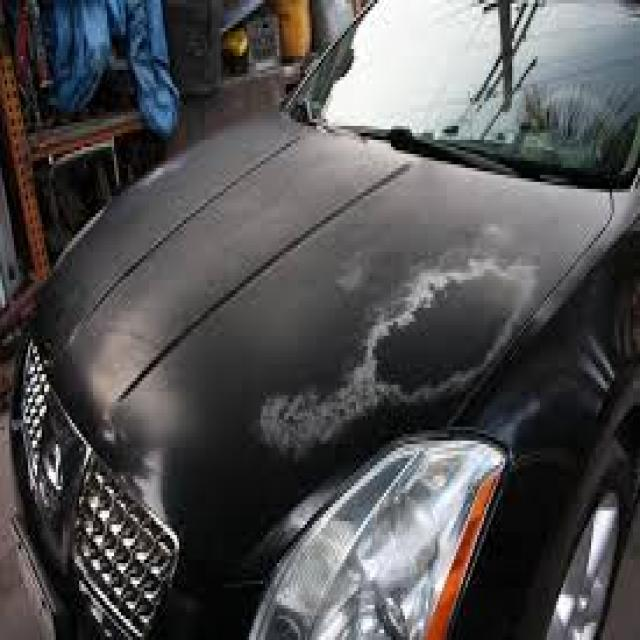minor: (250, 148, 640, 443)
